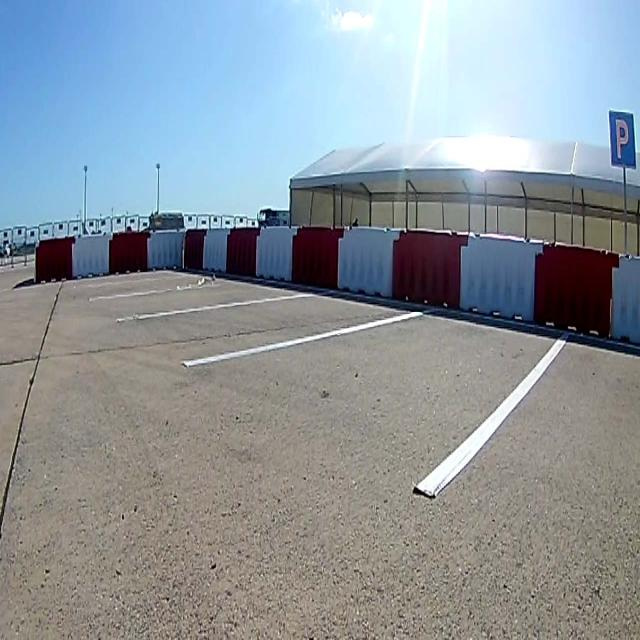park: (609, 110, 637, 170)
